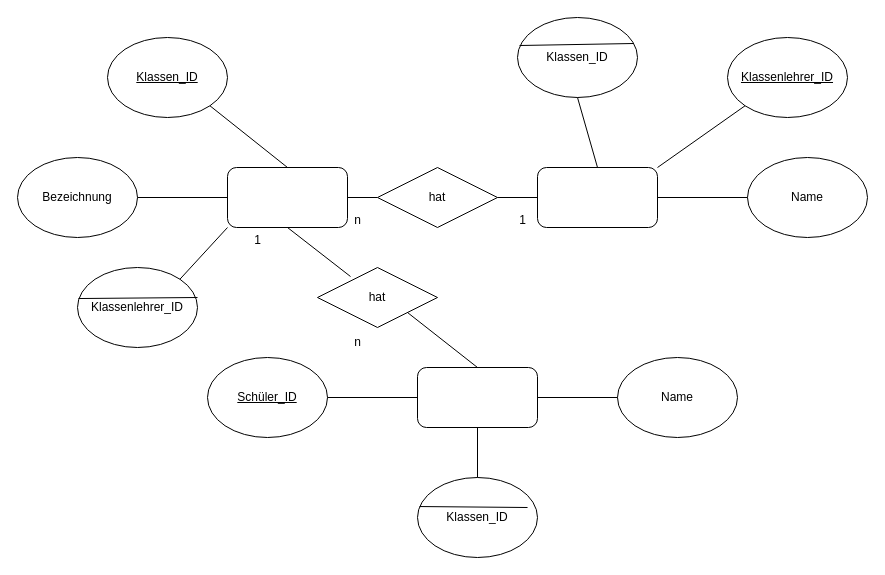
Image size: 885x575. Some labels were removed from this diagram. Each missing label, with the box of its shape:
Klassen: (226, 166, 348, 228)
Klassenlehrer: (536, 166, 658, 228)
Schüler: (416, 366, 538, 428)
